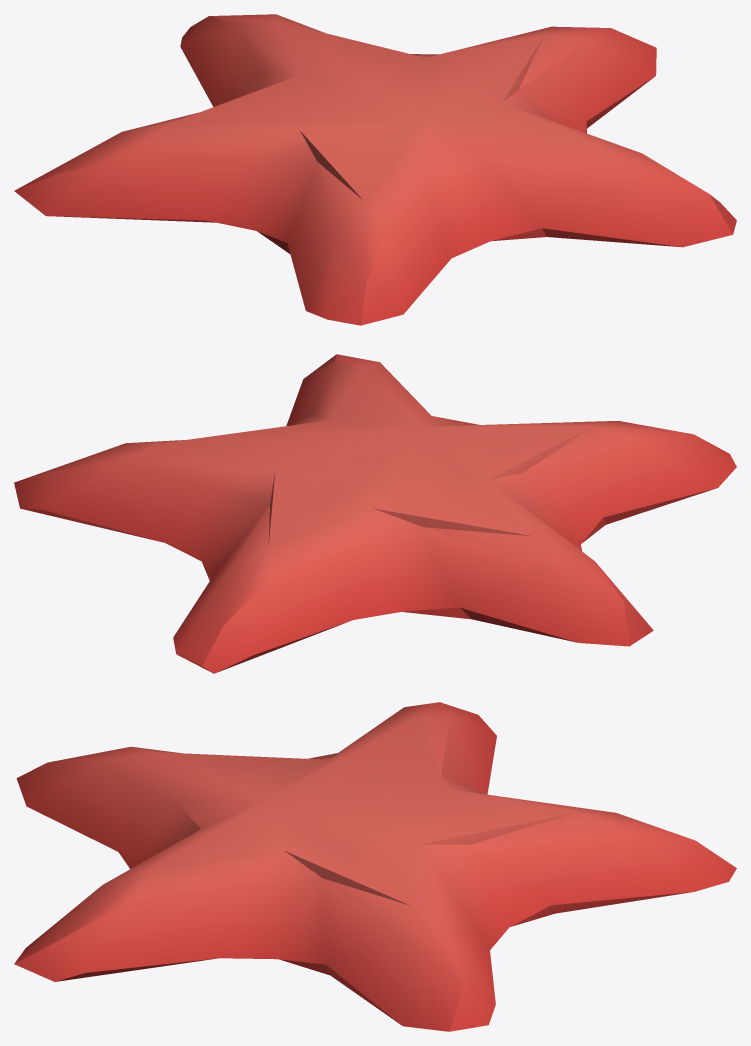
Rendered from Starfish_01.fbx.
3 views of the same model, one above another, from view 1: azimuth 30°, elevation 25°; view 2: azimuth 150°, elevation 25°; view 3: azimuth 270°, elevation 25° (orthographic). The views are drawn at different scales.
Visible parts, largest first — view 1: Starfish_01; view 2: Starfish_01; view 3: Starfish_01.
Boxes of the visible parts, x1,y1,x2,y2 form: Starfish_01: [14, 14, 736, 325]; Starfish_01: [14, 354, 736, 673]; Starfish_01: [14, 702, 736, 1031].
Size of the model in its own units: 25.91 by 3.16 by 24.97.
